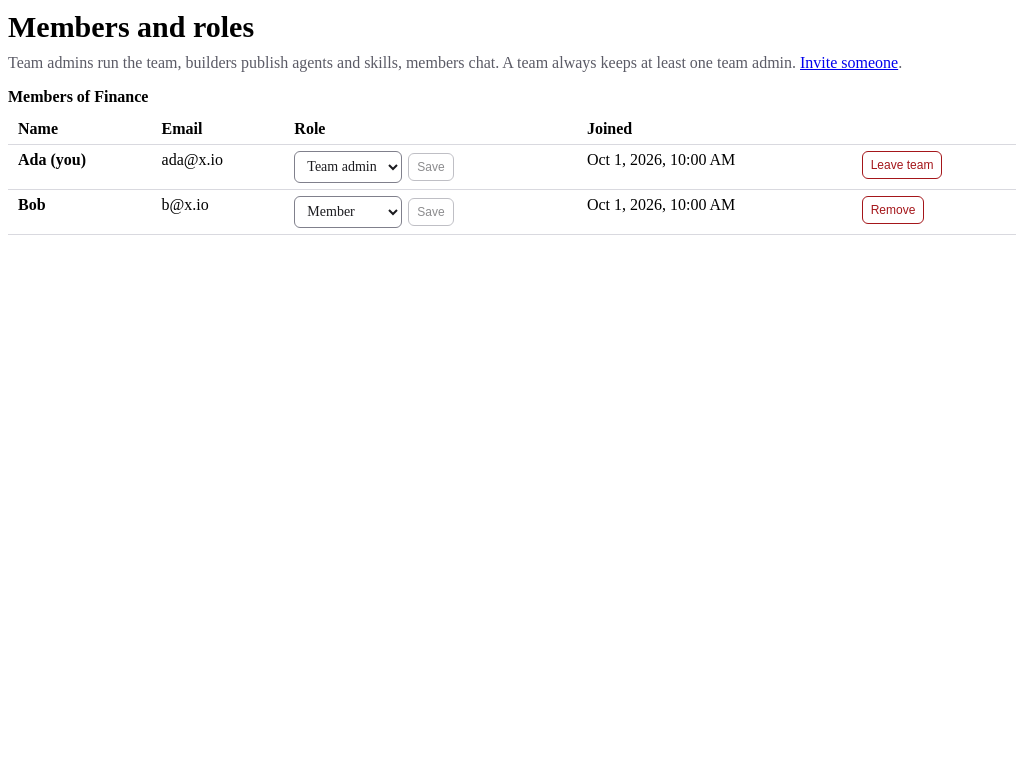
Scenario: Members and roles › shows the last-team-admin refusal and resets the list
Select "Member" in the dropdown named "Role of Ada" in the row of "(you)": (348, 166) [294,150,402,182]
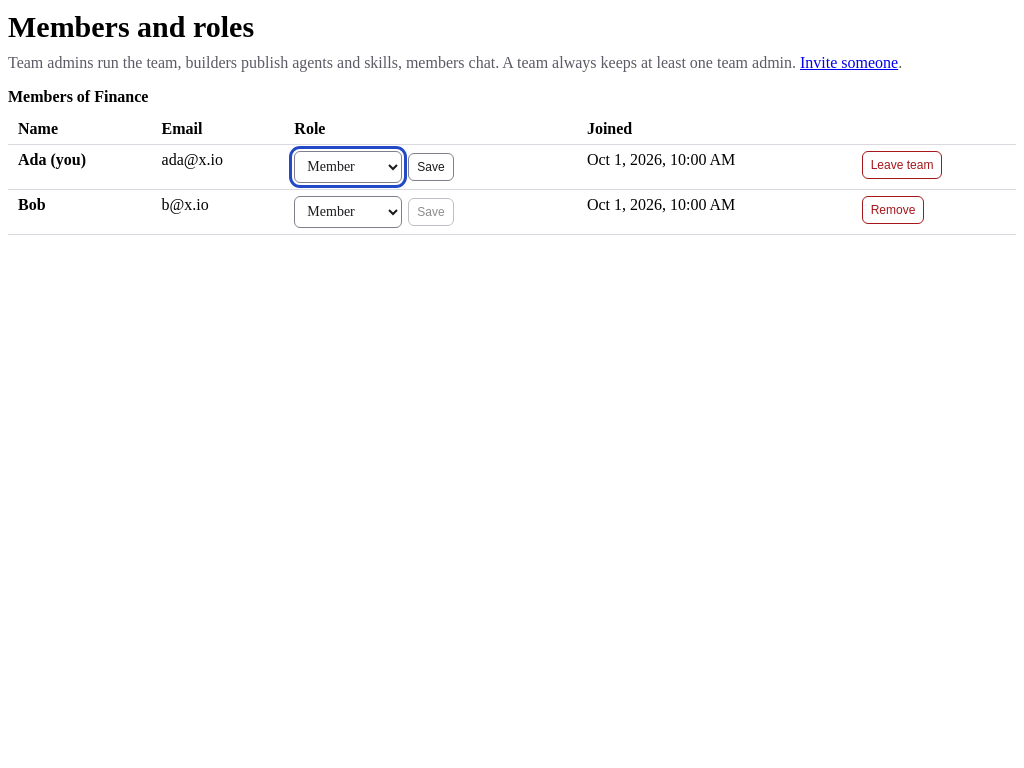
Click the button named "Save role of Ada": click(431, 166) [408,152,454,180]
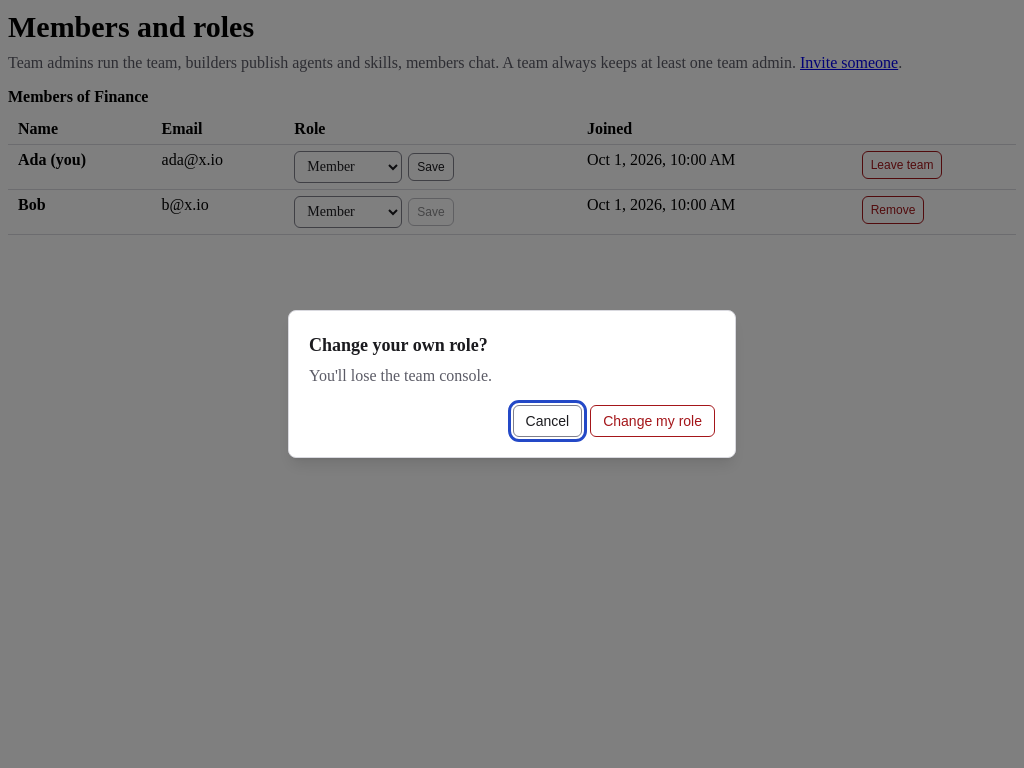
Click the button "Change my role": click(653, 421) [590,405,715,437]
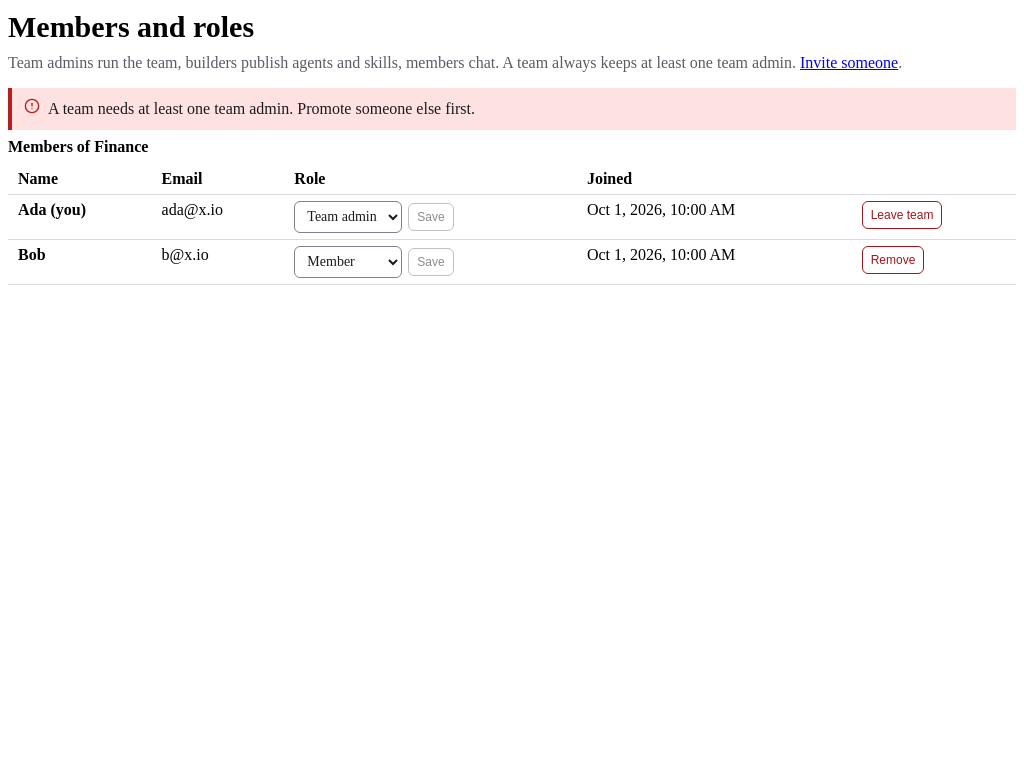
Result: the message shows "at least one team admin" at [48,100,475,116]
Result: the dropdown named "Role of Ada" in the row of "(you)" shows "Team admin" at [294,200,402,232]
